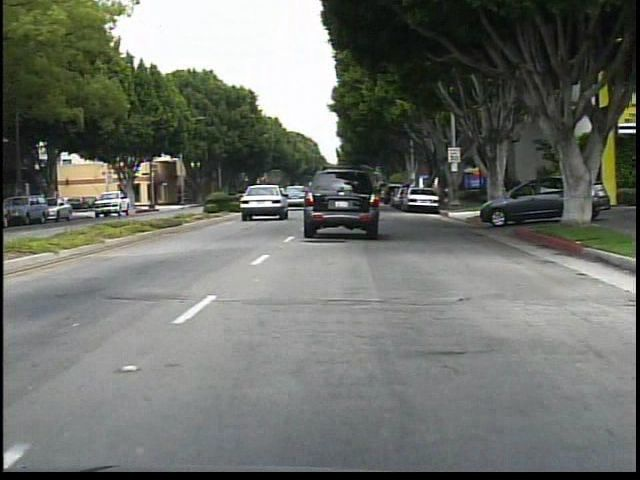person: (489, 169, 508, 210)
